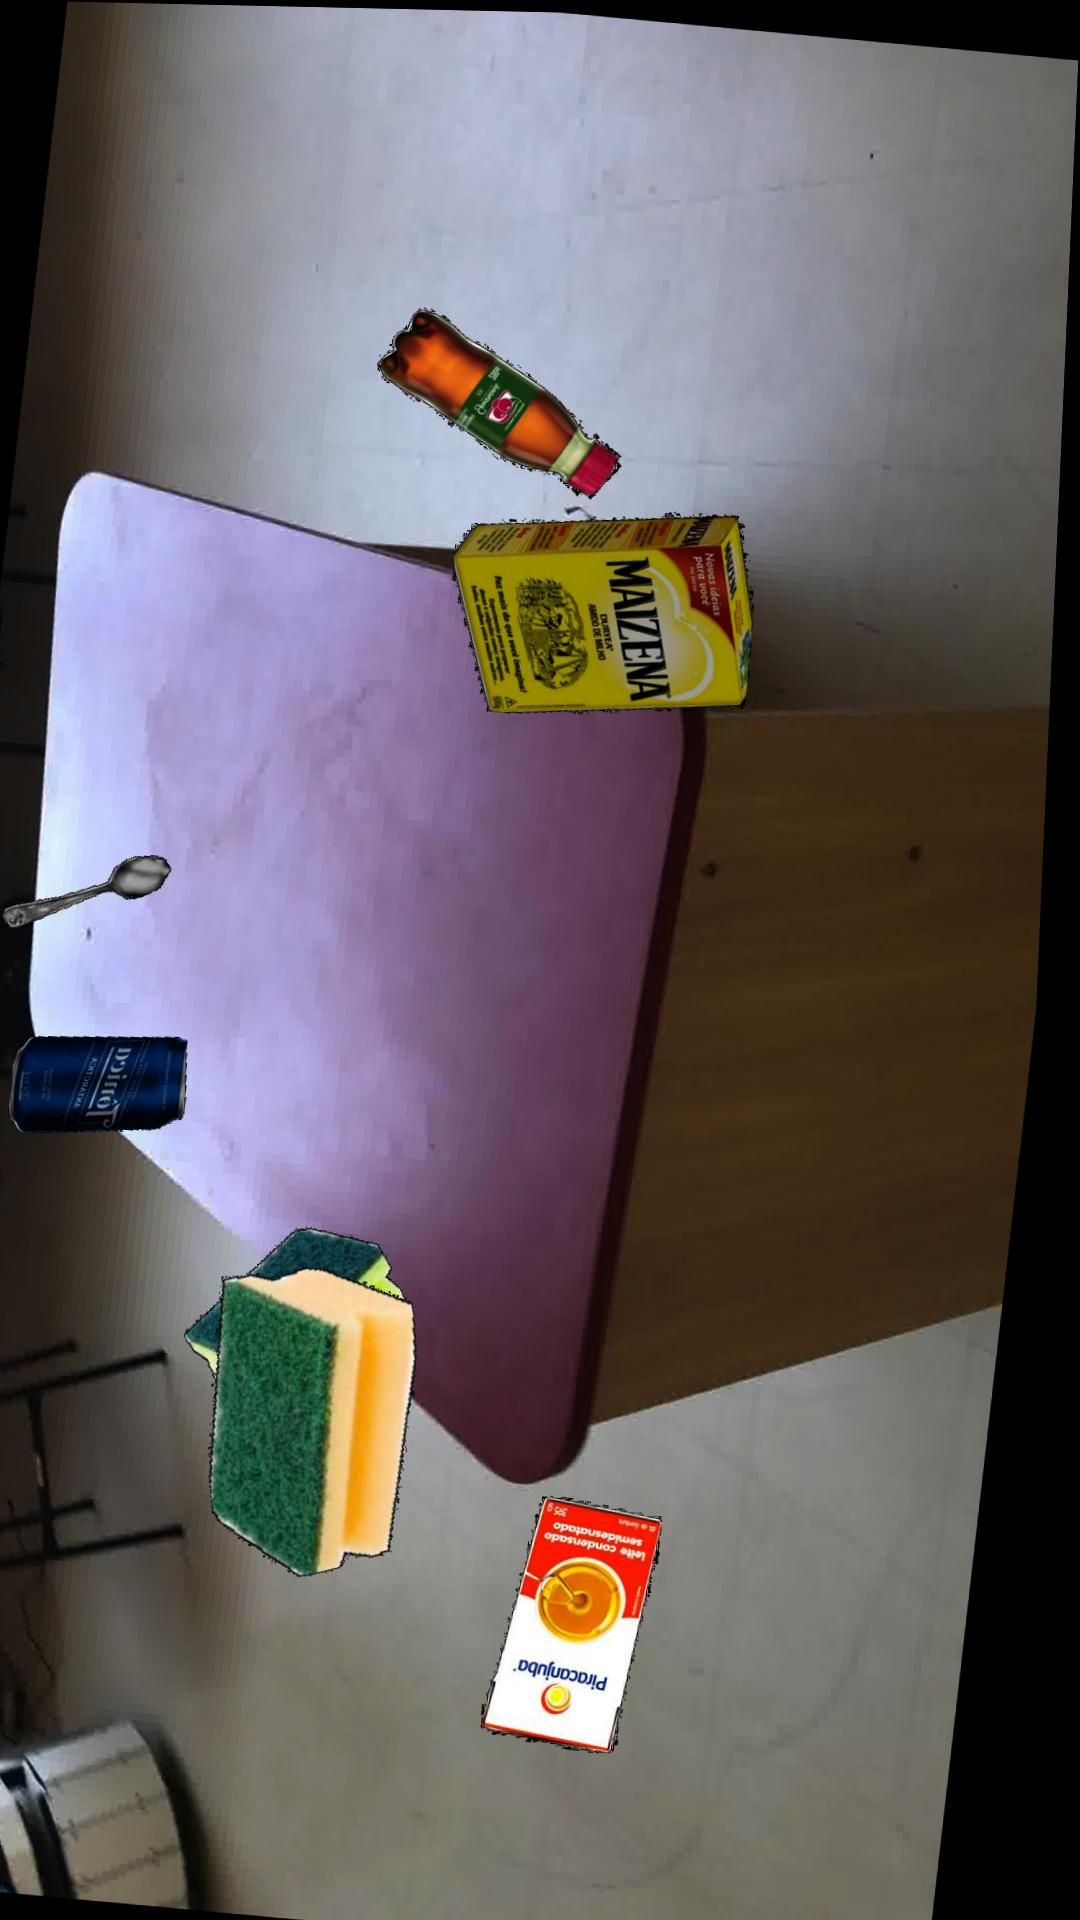guarana: (381, 305, 625, 495)
sponge: (223, 1263, 430, 1572), (196, 1224, 417, 1377)
spoon: (12, 853, 179, 926)
tonic: (18, 1034, 198, 1130)
